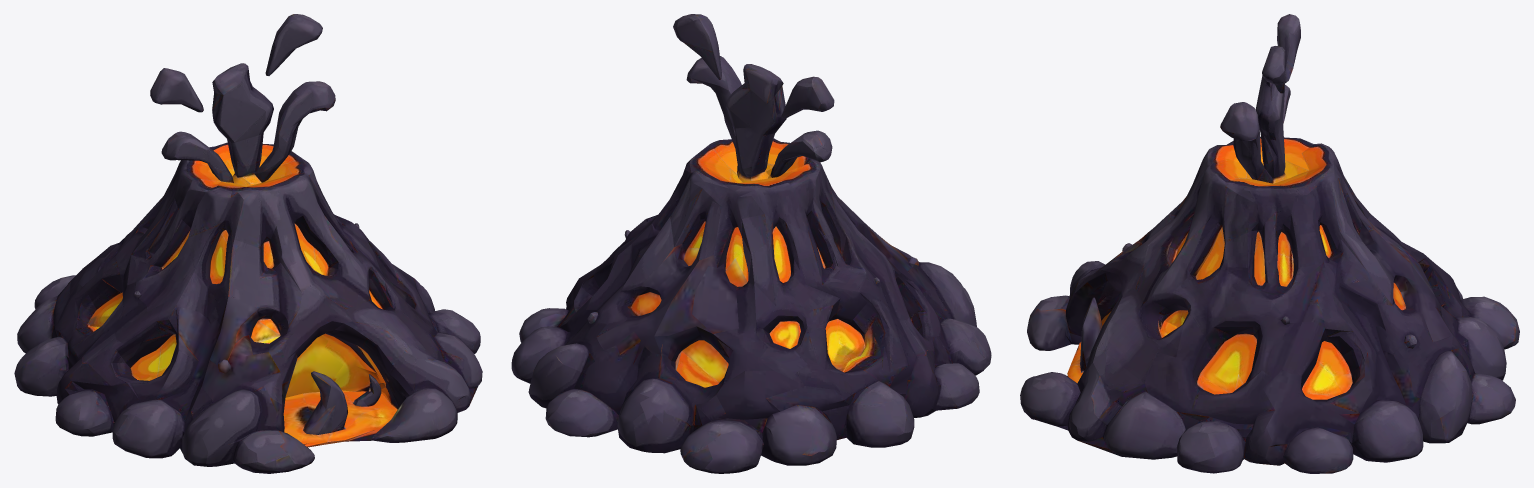
Rendered from volcano.glb.
3 views of the same model, side by side, from view 1: azimuth 30°, elevation 25°; view 2: azimuth 150°, elevation 25°; view 3: azimuth 270°, elevation 25° (orthographic). The views are drawn at different scales.
Bounding box in the file's own units: 1.85 × 1.49 × 1.9.
1 material, 1 textured.
